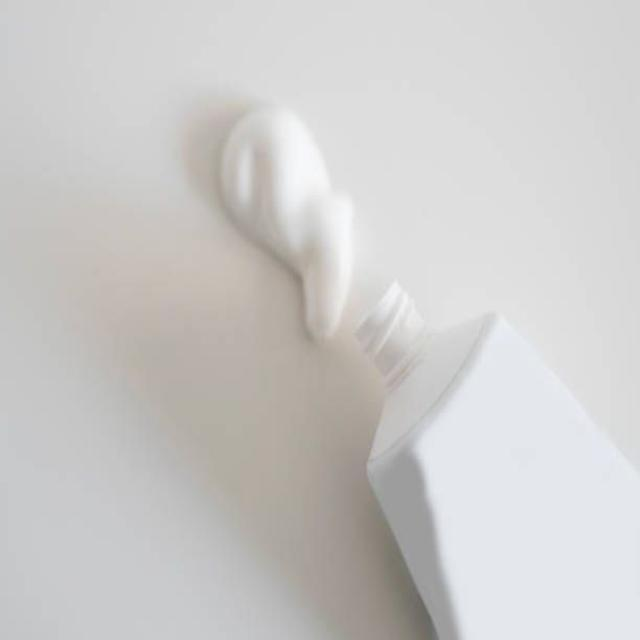electronic: (214, 99, 639, 639), (354, 278, 639, 638), (216, 99, 356, 343), (353, 277, 432, 393)
